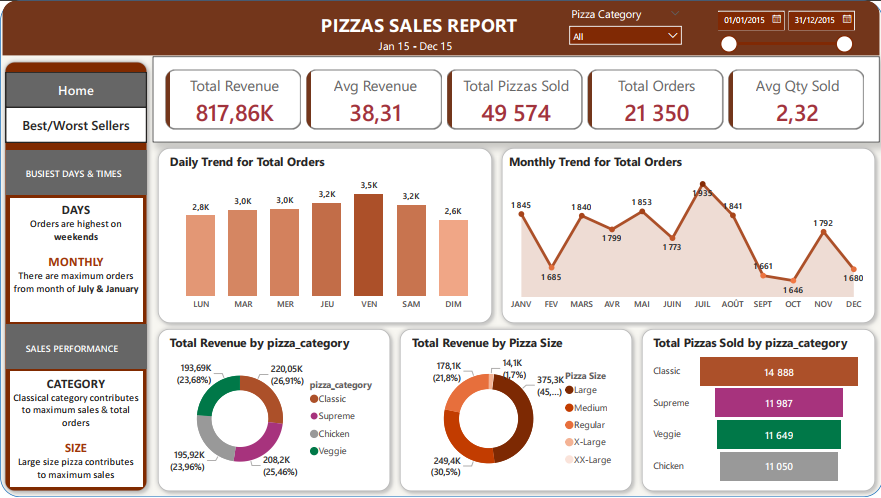

This screenshot's page, from the dashboard's own definition file:
{"tool":"powerbi","page":{"name":"Home","canvas":[1280,720],"ordinal":0},"visuals":[{"type":"shape","box":[1.5,0,1279.1,720.9],"z":0},{"type":"cardVisual","fields":{"Data":["pizzas_sales.Total Revenue","pizzas_sales.Avg Revenue","pizzas_sales.Total Pizzas Sold","pizzas_sales.Total Orders","pizzas_sales.Avg Qty Sold"]},"box":[222.4,80.6,1053.7,125],"z":1000},{"type":"shape","box":[4,0,1272,80],"z":2000},{"type":"cardVisual","fields":{"Data":["pizzas_sales.Title"]},"box":[437.3,0,409,64.2],"z":3000},{"type":"cardVisual","fields":{"Data":["pizzas_sales.Period report"]},"box":[520.9,35.8,177.6,56.7],"z":4000},{"type":"shape","box":[0,80.6,222.4,638.8],"z":5000},{"type":"textbox","box":[15,287,192,179.1],"z":6000},{"type":"shape","box":[222.4,206,498.5,268.7],"z":7000},{"type":"columnChart","title":"Daily Trend for Total Orders","fields":{"Category":["pizzas_sales.Order Day"],"Y":["pizzas_sales.Total Orders"]},"box":[241.8,222.4,467.2,235.8],"z":8000},{"type":"shape","box":[720.9,206,555.2,268.7],"z":9000},{"type":"areaChart","title":"Monthly Trend for Total Orders","fields":{"Category":["pizzas_sales.Order Month"],"Y":["pizzas_sales.Total Orders"]},"box":[734.3,222.4,526.9,235.8],"z":10000},{"type":"shape","box":[222.4,470.1,352,249.3],"z":11000},{"type":"shape","box":[573.1,470.1,352.2,249.3],"z":12000},{"type":"shape","box":[923.9,470.1,352.2,249.3],"z":13000},{"type":"donutChart","fields":{"Category":["pizzas_sales.pizza_category"],"Y":["pizzas_sales.Total Revenue"]},"box":[241.8,485.1,311.9,220.9],"z":14000},{"type":"donutChart","fields":{"Category":["pizzas_sales.Size"],"Y":["pizzas_sales.Total Revenue"]},"box":[592.5,485.1,311.9,220.9],"z":15000},{"type":"funnel","fields":{"Category":["pizzas_sales.pizza_category"],"Y":["pizzas_sales.Total Pizzas Sold"]},"box":[943.3,485.1,311.9,220.9],"z":16000},{"type":"cardVisual","fields":{"Data":["pizzas_sales.Panel 1"]},"box":[9,217,204,64.3],"z":17000},{"type":"textbox","box":[15,539,192,167.2],"z":18000},{"type":"cardVisual","fields":{"Data":["pizzas_sales.Panel 2"]},"box":[8.9,470.5,204.5,64.3],"z":19000},{"type":"slicer","fields":{"Values":["pizzas_sales.pizza_category"]},"box":[816.3,4,182.7,70],"z":20000},{"type":"slicer","fields":{"Values":["pizzas_sales.order_date"]},"box":[1028.6,5.1,217.3,75.5],"z":21000},{"type":"pageNavigator","box":[9,104.5,204.5,50.7],"z":22000},{"type":"pageNavigator","box":[9,155.2,204.5,50.7],"z":23000}]}

Visuals, with their boxes in screenshot pixels (x1, y1, x2, y2), scaled from the page's 1280x720 canvas onto the 881x498 screenshot:
shape: {"x1": 1, "y1": 0, "x2": 880, "y2": 497}
cardVisual - pizzas_sales.Total Revenue x pizzas_sales.Avg Revenue: {"x1": 153, "y1": 56, "x2": 878, "y2": 142}
shape: {"x1": 3, "y1": 0, "x2": 878, "y2": 55}
cardVisual - pizzas_sales.Title: {"x1": 301, "y1": 0, "x2": 582, "y2": 44}
cardVisual - pizzas_sales.Period report: {"x1": 359, "y1": 25, "x2": 481, "y2": 64}
shape: {"x1": 0, "y1": 56, "x2": 153, "y2": 497}
textbox: {"x1": 10, "y1": 199, "x2": 142, "y2": 322}
shape: {"x1": 153, "y1": 142, "x2": 496, "y2": 328}
"Daily Trend for Total Orders" columnChart: {"x1": 166, "y1": 154, "x2": 488, "y2": 317}
shape: {"x1": 496, "y1": 142, "x2": 878, "y2": 328}
"Monthly Trend for Total Orders" areaChart: {"x1": 505, "y1": 154, "x2": 868, "y2": 317}
shape: {"x1": 153, "y1": 325, "x2": 395, "y2": 497}
shape: {"x1": 394, "y1": 325, "x2": 637, "y2": 497}
shape: {"x1": 636, "y1": 325, "x2": 878, "y2": 497}
donutChart - pizzas_sales.pizza_category x pizzas_sales.Total Revenue: {"x1": 166, "y1": 336, "x2": 381, "y2": 488}
donutChart - pizzas_sales.Size x pizzas_sales.Total Revenue: {"x1": 408, "y1": 336, "x2": 622, "y2": 488}
funnel - pizzas_sales.pizza_category x pizzas_sales.Total Pizzas Sold: {"x1": 649, "y1": 336, "x2": 864, "y2": 488}
cardVisual - pizzas_sales.Panel 1: {"x1": 6, "y1": 150, "x2": 147, "y2": 195}
textbox: {"x1": 10, "y1": 373, "x2": 142, "y2": 488}
cardVisual - pizzas_sales.Panel 2: {"x1": 6, "y1": 325, "x2": 147, "y2": 370}
slicer - pizzas_sales.pizza_category: {"x1": 562, "y1": 3, "x2": 688, "y2": 51}
slicer - pizzas_sales.order_date: {"x1": 708, "y1": 4, "x2": 858, "y2": 56}
pageNavigator: {"x1": 6, "y1": 72, "x2": 147, "y2": 107}
pageNavigator: {"x1": 6, "y1": 107, "x2": 147, "y2": 142}
